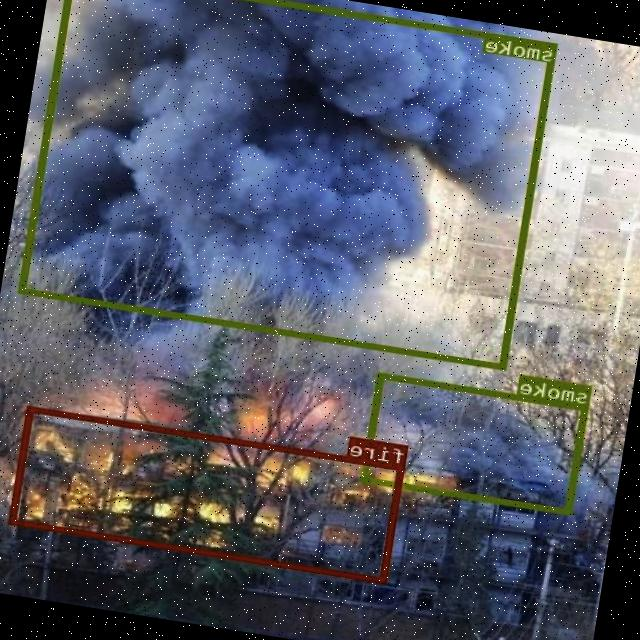fire: (11, 405, 406, 583)
smoke: (20, 0, 558, 369), (363, 372, 590, 514)
